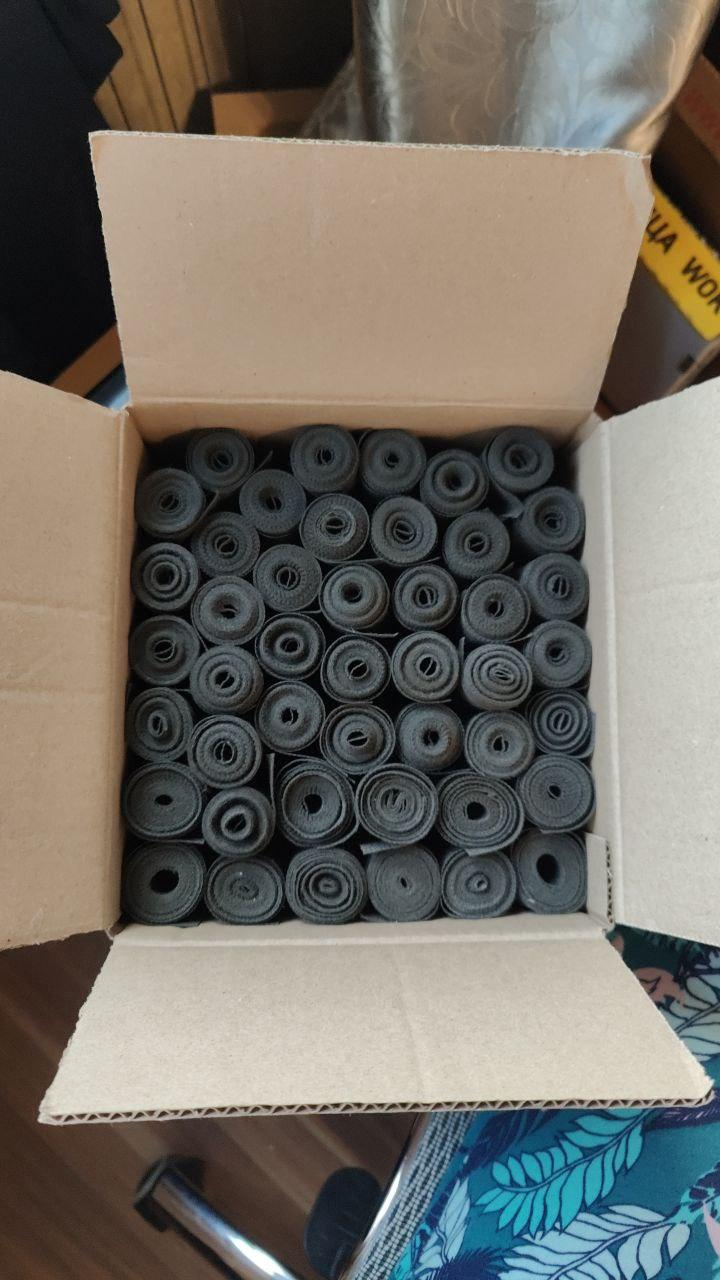roll: (120, 839, 208, 927), (274, 762, 359, 851), (434, 768, 523, 853), (282, 843, 369, 927), (355, 764, 440, 849), (121, 761, 206, 844), (511, 827, 590, 916), (516, 751, 598, 835), (361, 842, 443, 925), (202, 851, 286, 929), (438, 844, 519, 923), (198, 782, 277, 861), (186, 712, 264, 791), (458, 637, 537, 715), (511, 485, 589, 562), (517, 551, 594, 628), (389, 628, 465, 706), (461, 706, 539, 782), (254, 678, 330, 755), (127, 611, 201, 690), (125, 685, 199, 764), (458, 572, 534, 648), (366, 493, 442, 569), (190, 573, 267, 648), (393, 700, 468, 777), (319, 703, 396, 778), (134, 465, 209, 542), (188, 643, 268, 715), (316, 559, 392, 634), (319, 634, 395, 709), (297, 492, 372, 568), (440, 509, 515, 585), (129, 540, 203, 617), (525, 684, 599, 761), (521, 619, 595, 695), (389, 561, 463, 636), (288, 423, 362, 498), (251, 542, 324, 617), (483, 425, 557, 498), (254, 610, 327, 683), (418, 446, 492, 518), (190, 510, 263, 582), (237, 467, 309, 539), (358, 427, 429, 499), (185, 426, 257, 496)
